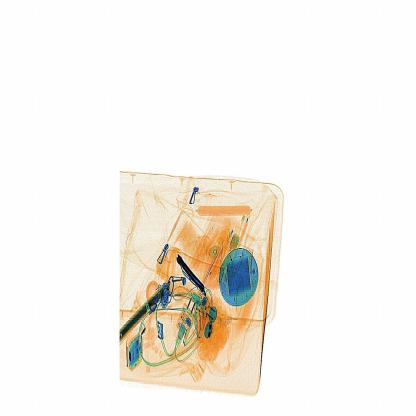knife: (173, 254, 207, 295)
